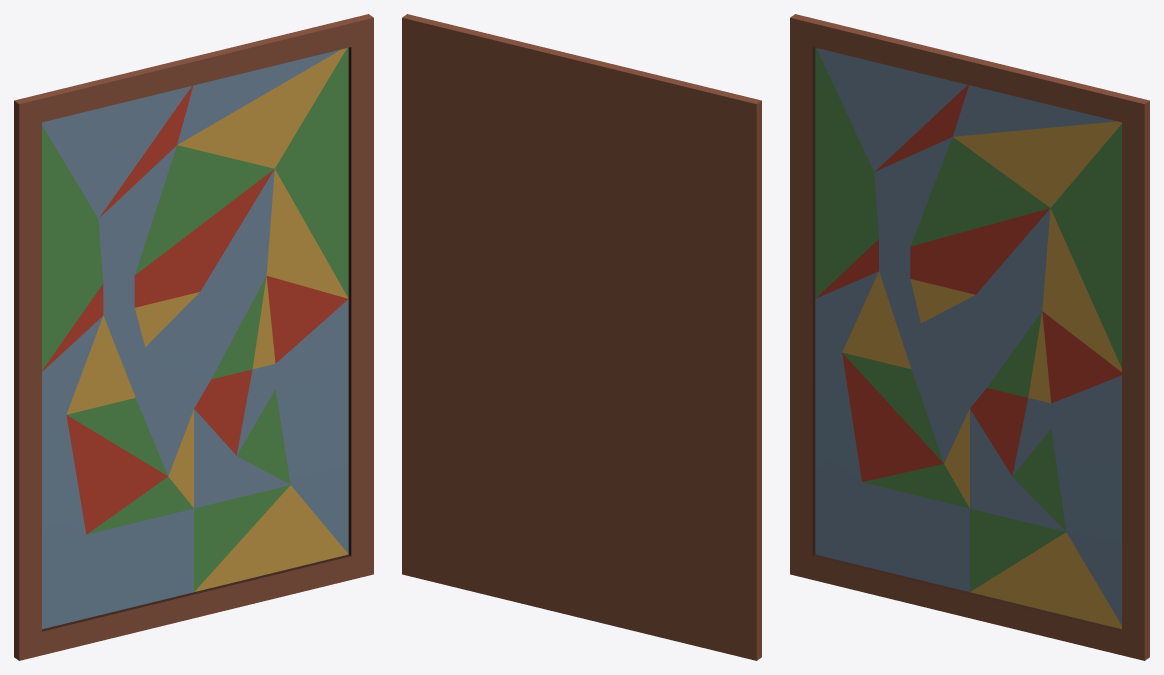
File: Int_WallPainting01_2.fbx
3 views of the same model, side by side, from view 1: azimuth 30°, elevation 25°; view 2: azimuth 150°, elevation 25°; view 3: azimuth 330°, elevation 25° (orthographic).
Parts seen in each view (by area): view 1: Int_WallPainting01_2; view 2: Int_WallPainting01_2; view 3: Int_WallPainting01_2.
Part boxes in pixels (<box>): Int_WallPainting01_2: <box>14,14,373,660</box>; Int_WallPainting01_2: <box>402,14,761,660</box>; Int_WallPainting01_2: <box>790,14,1149,660</box>.
Size of what is drawn, in the model's own units: 100 by 2.5 by 150.
